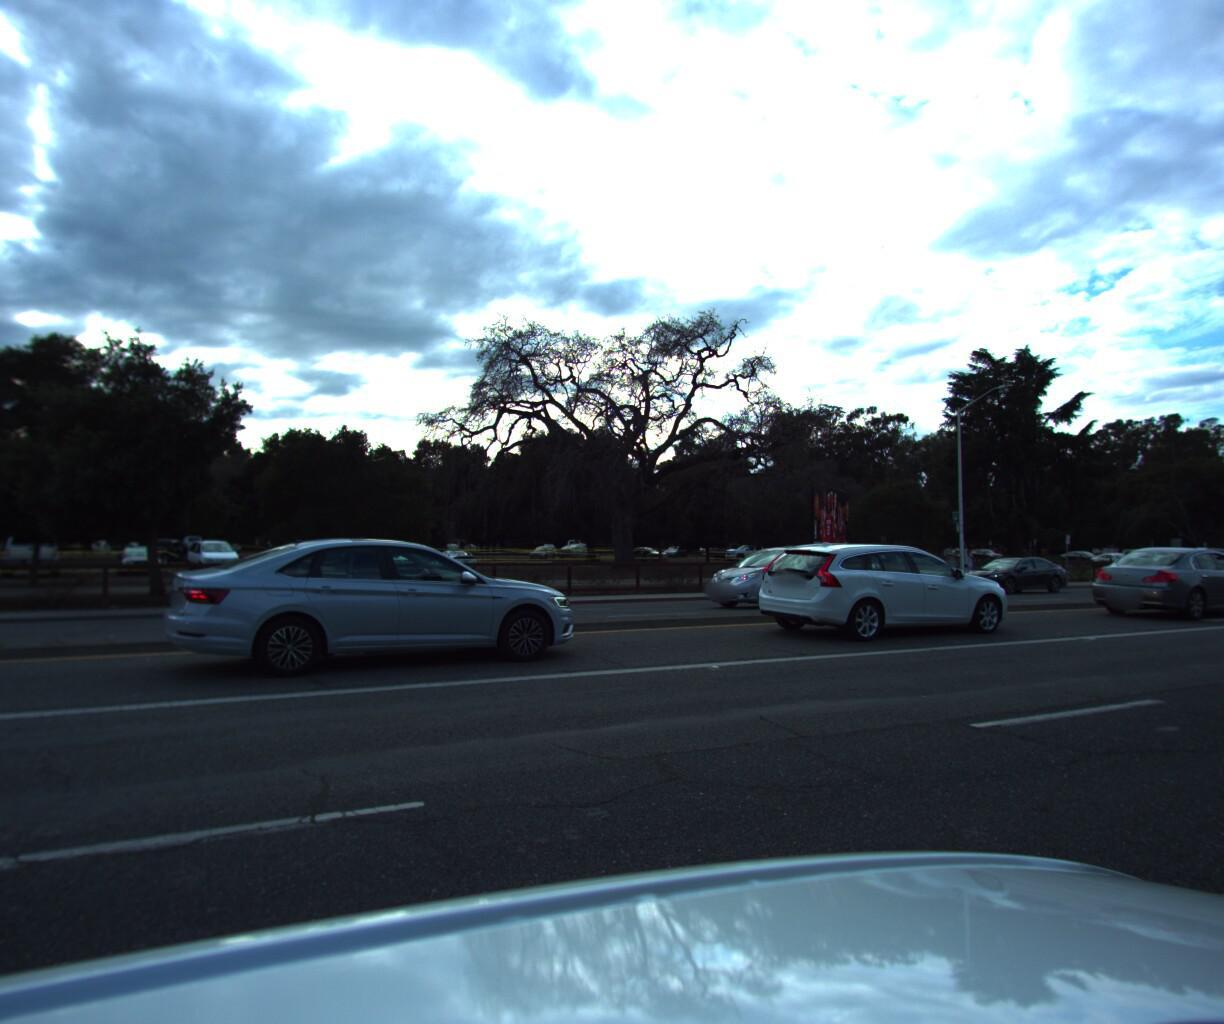car: (160, 526, 592, 682), (737, 537, 1023, 642), (693, 536, 875, 605), (1075, 537, 1224, 613), (947, 551, 1064, 593), (1195, 544, 1224, 568), (1221, 552, 1224, 754)
